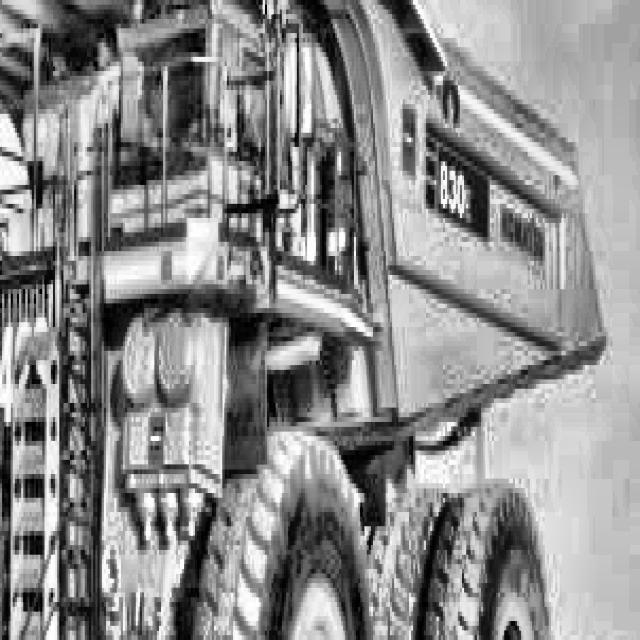dump_truck: (0, 0, 579, 640)
